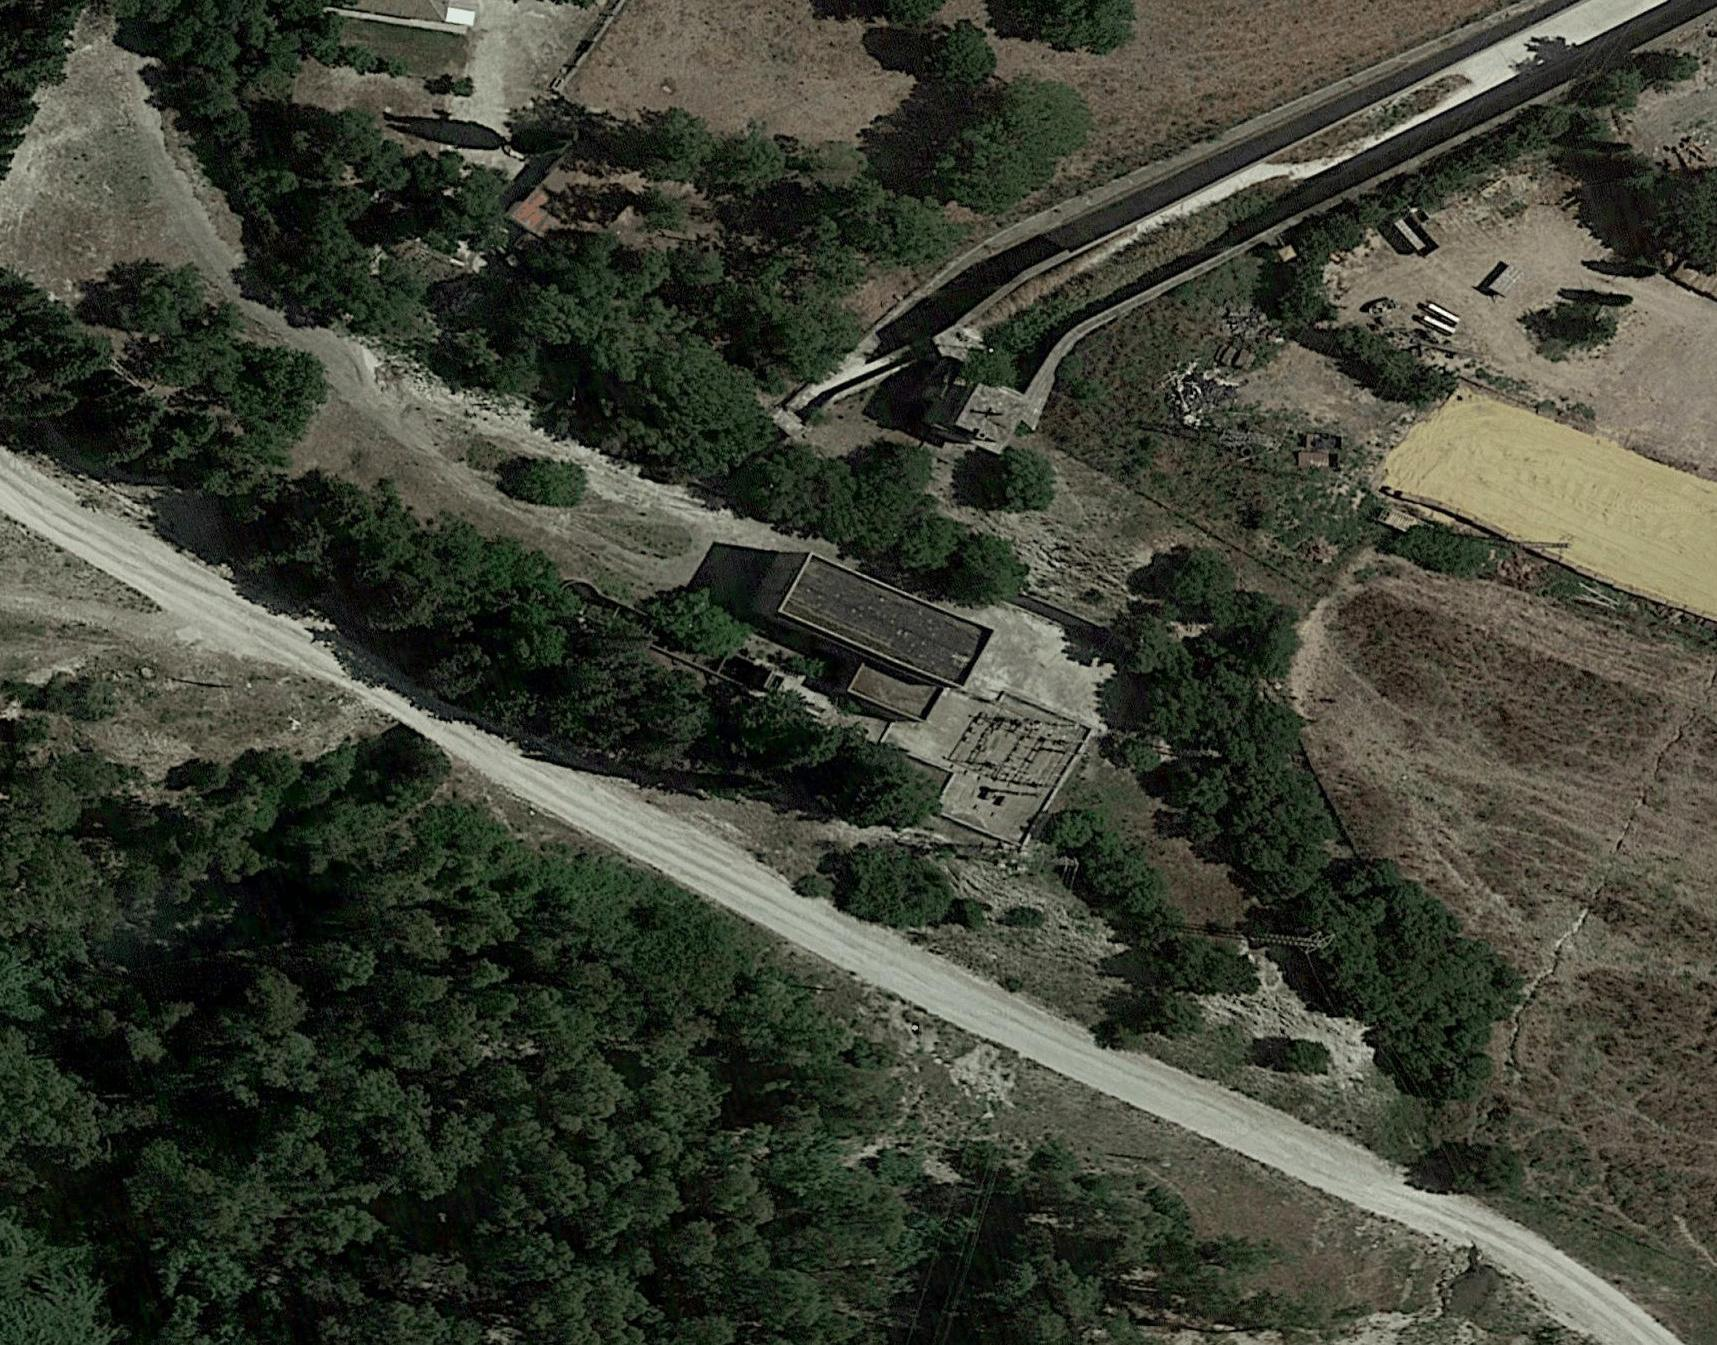substation: (939, 704, 1086, 818)
